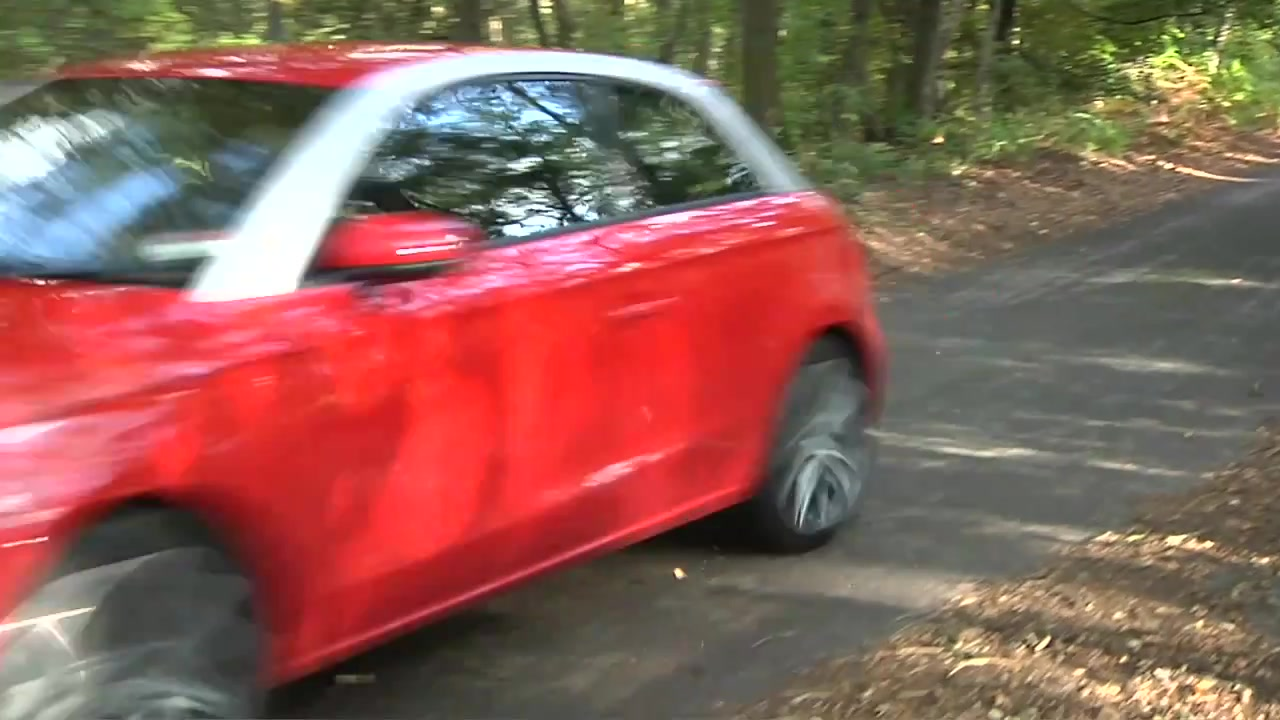car: (4, 45, 892, 720)
